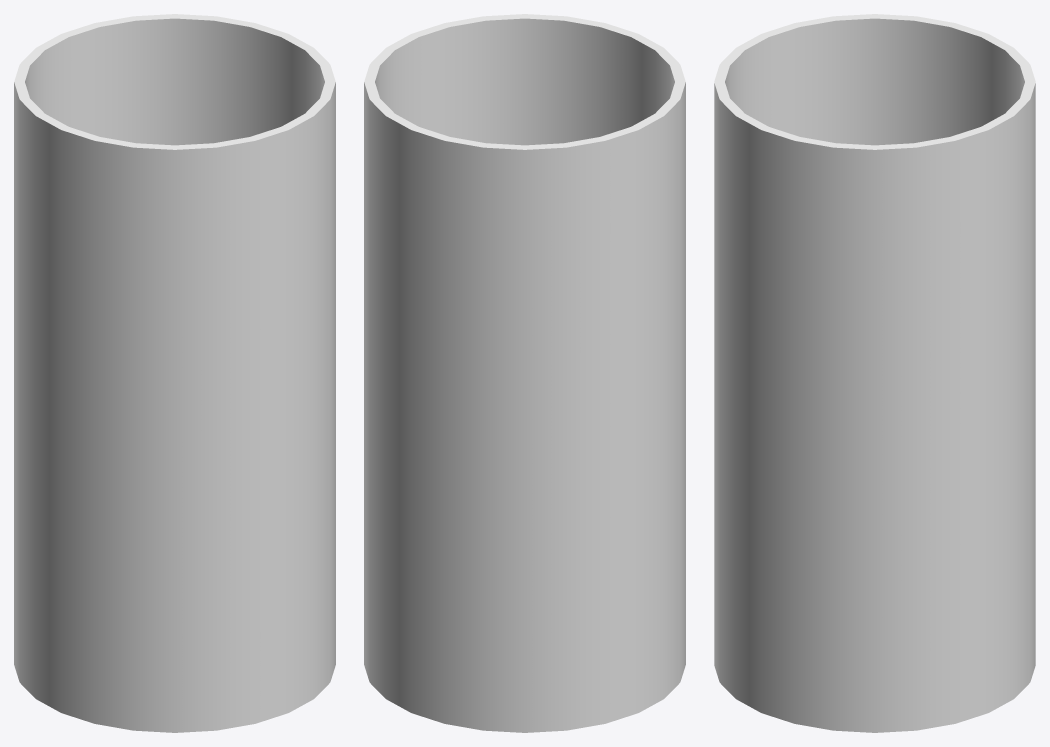
The model's file is bucket_150_300.dae.
The picture shows the model from 3 angles, left to right: view 1: azimuth 30°, elevation 25°; view 2: azimuth 150°, elevation 25°; view 3: azimuth 270°, elevation 25°; orthographic projection.
Parts seen in each view (by area): view 1: SketchUp (×2); view 2: SketchUp (×2); view 3: SketchUp (×2).
Part boxes in pixels (x1,y1,x2,y2): SketchUp (×2): (14, 14, 335, 732); SketchUp (×2): (364, 14, 685, 732); SketchUp (×2): (714, 14, 1035, 732).
Bounding box in the file's own units: 5.91 × 5.91 × 11.81.
Materials: 1 (1 with a texture image).
